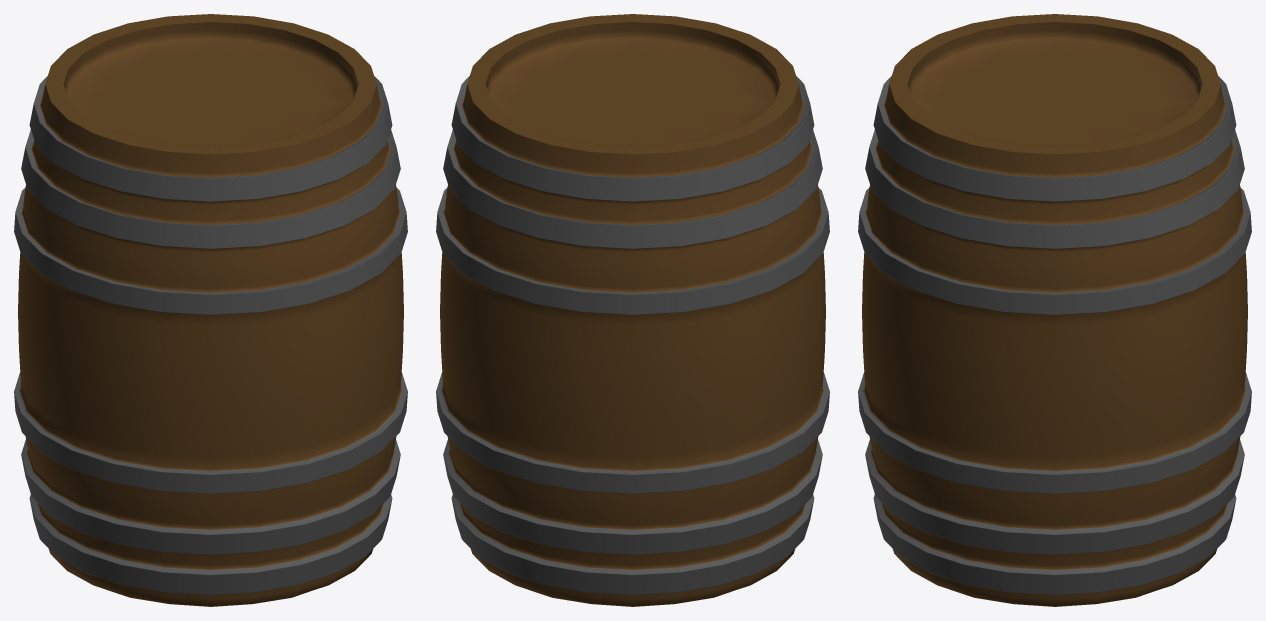
The model's file is Barrel.fbx.
3 renders of one model, left to right at view 1: azimuth 30°, elevation 25°; view 2: azimuth 150°, elevation 25°; view 3: azimuth 270°, elevation 25°, orthographic.
Parts seen in each view (by area): view 1: Cylinder; view 2: Cylinder; view 3: Cylinder.
Part boxes in pixels (x1,y1,x2,y2): Cylinder: (14,14,407,606); Cylinder: (436,14,829,606); Cylinder: (858,14,1251,606).
Bounding box in the file's own units: 121 × 154 × 121.
